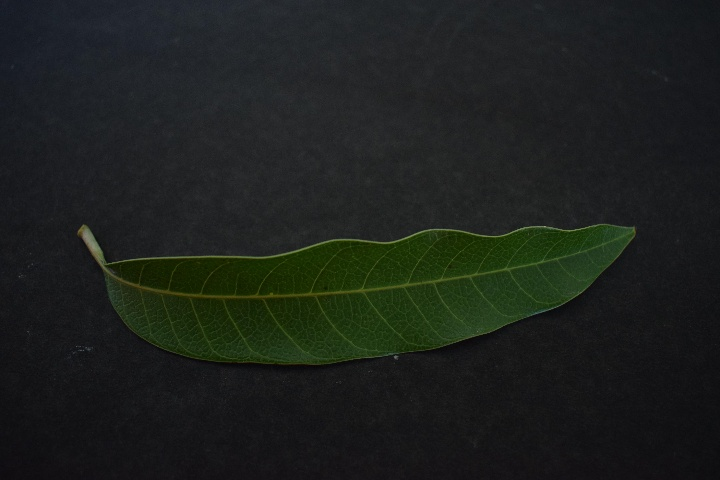healthy: (80, 214, 649, 370)
